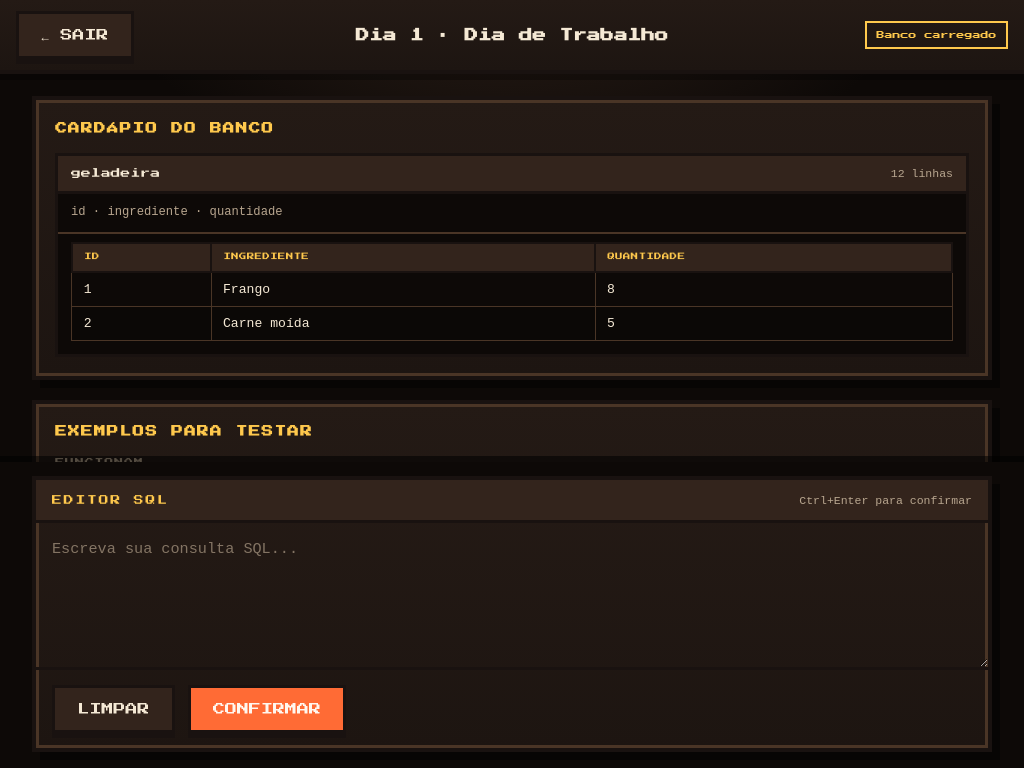
it: GameScreen › runs a query from the editor and shows the result table
Expected: the heading "Cardápio do banco" is shown, [55, 122, 274, 134]
Type "SELECT ingrediente, quantidade FROM geladeira" into the text box labelled "Editor SQL" at (512, 595), box [36, 523, 988, 667]
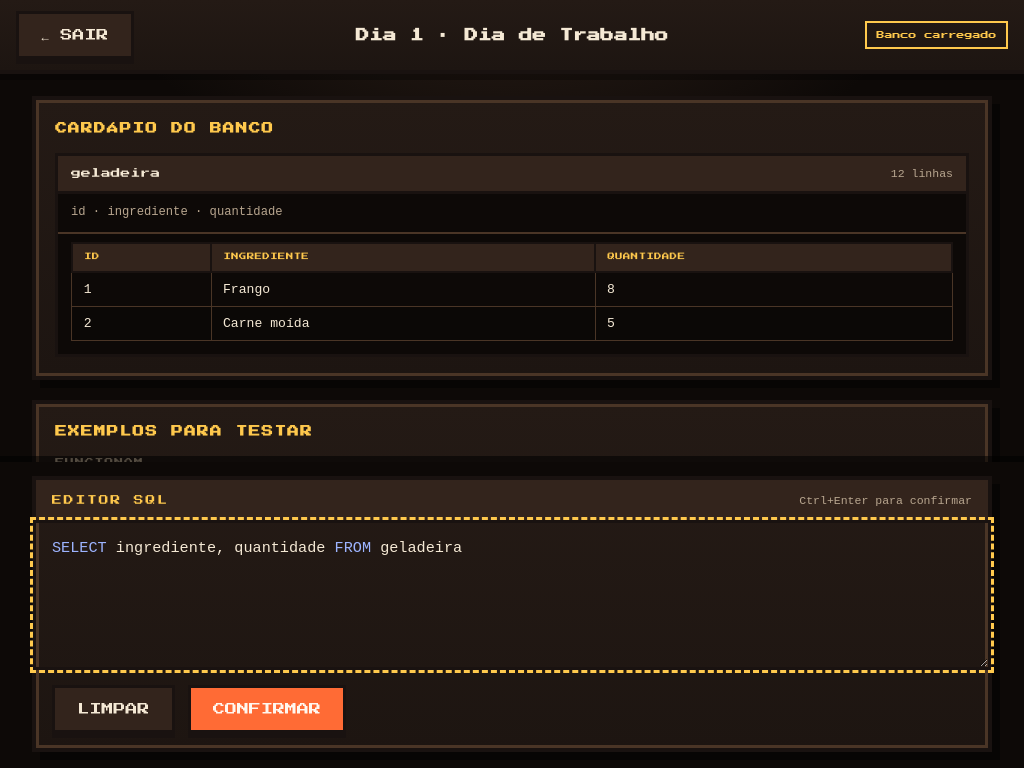
Click the button "Confirmar" at (267, 709), box [188, 685, 346, 733]
(page scrolled)
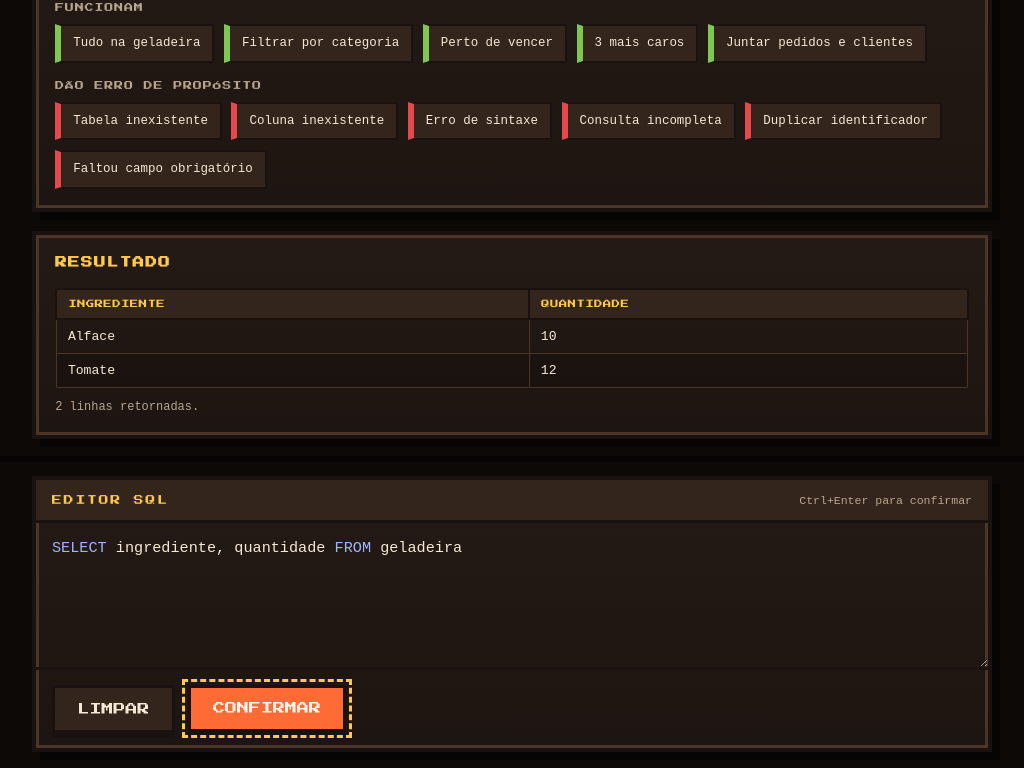
Result: the column heading "ingrediente" is shown at [56, 289, 529, 319]
Result: the cell "Alface" is shown at [56, 319, 529, 354]
Result: the text "2 linhas retornadas." is shown at [55, 400, 199, 414]
